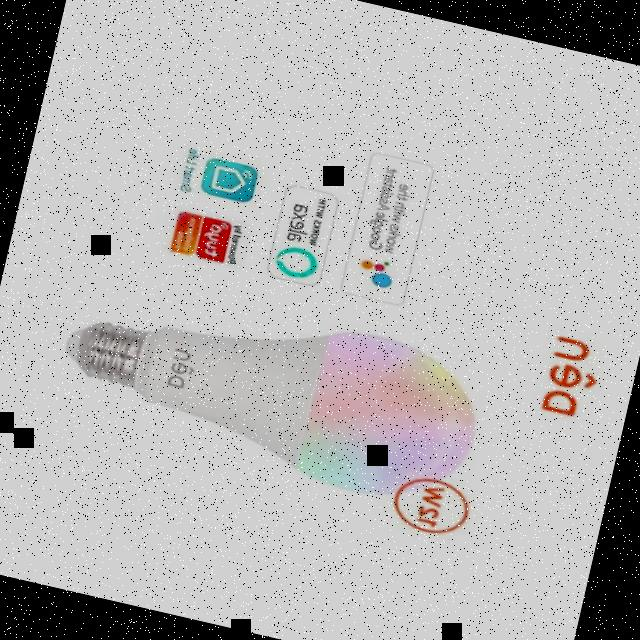light_bulb: (21, 256, 506, 534)
